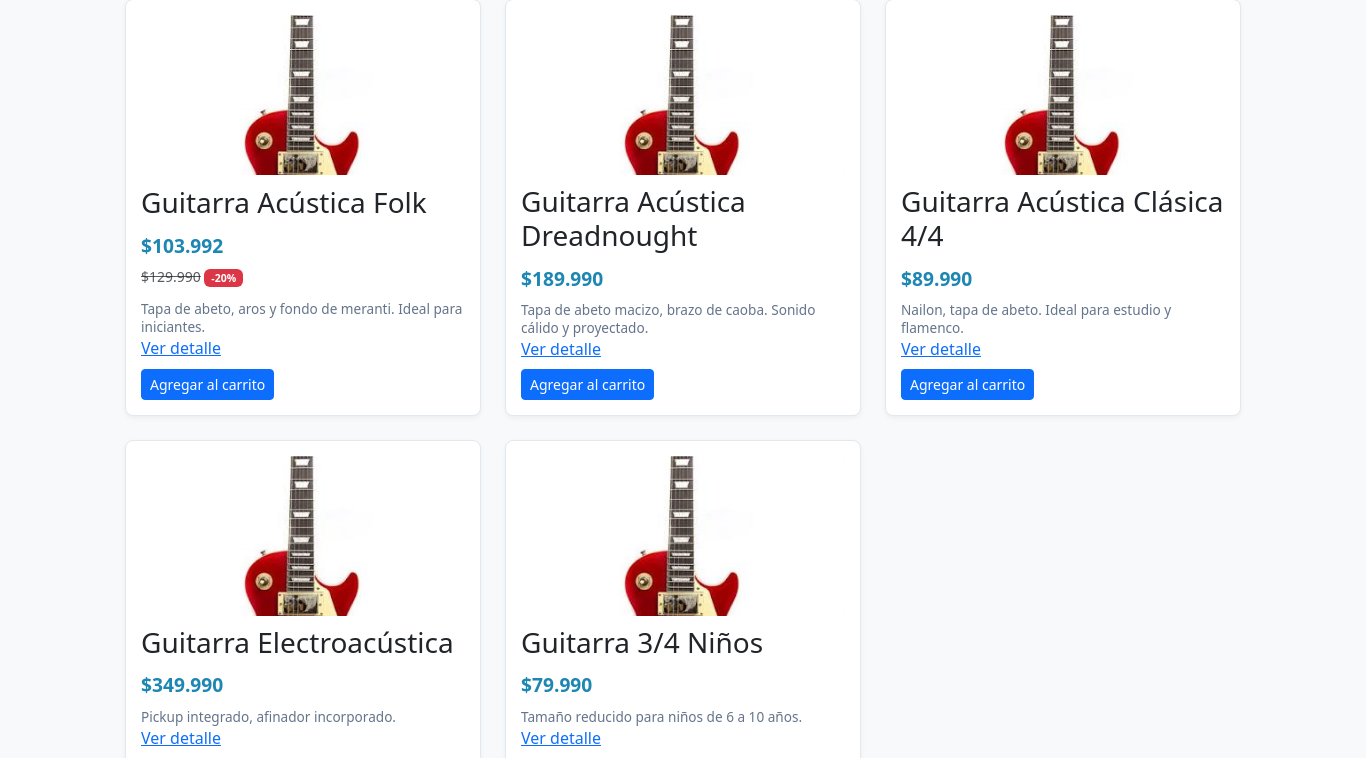
Scenario: CatalogPage › al agregar un producto queda guardado en el carrito y sube el contador
(page scrolled)
Click the button "Agregar al carrito" below "$103.992" at (208, 384), box [141,369,274,400]
(page scrolled)
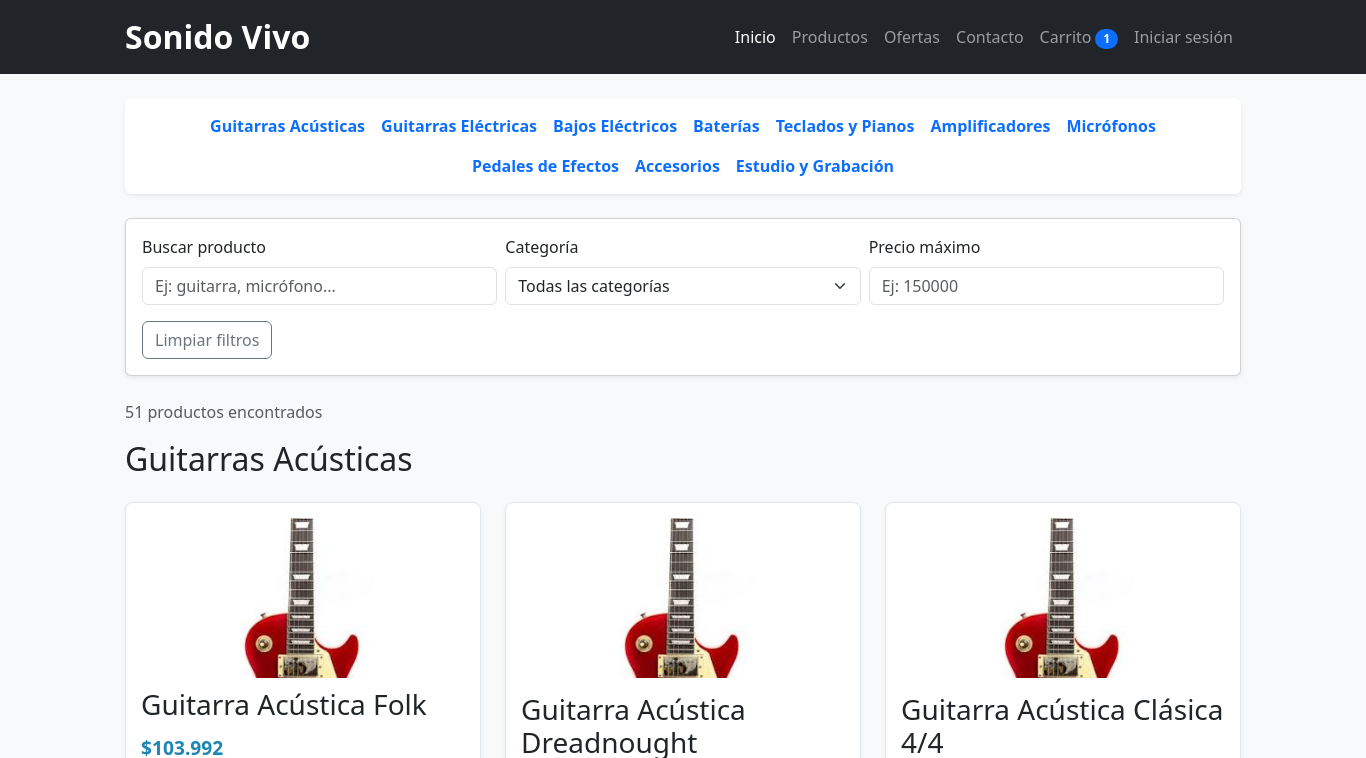
expect the heading "Guitarra Acústica Folk" is shown: met, box [141,688,465,722]
expect the text with test id "contador-carrito" reads "1": met, box [1103,30,1110,47]
